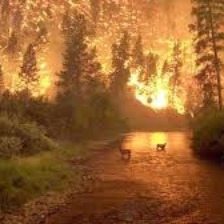animais: (108, 137, 137, 163), (151, 138, 170, 157)
incendio: (6, 15, 95, 98), (114, 54, 205, 131), (81, 25, 202, 67)
